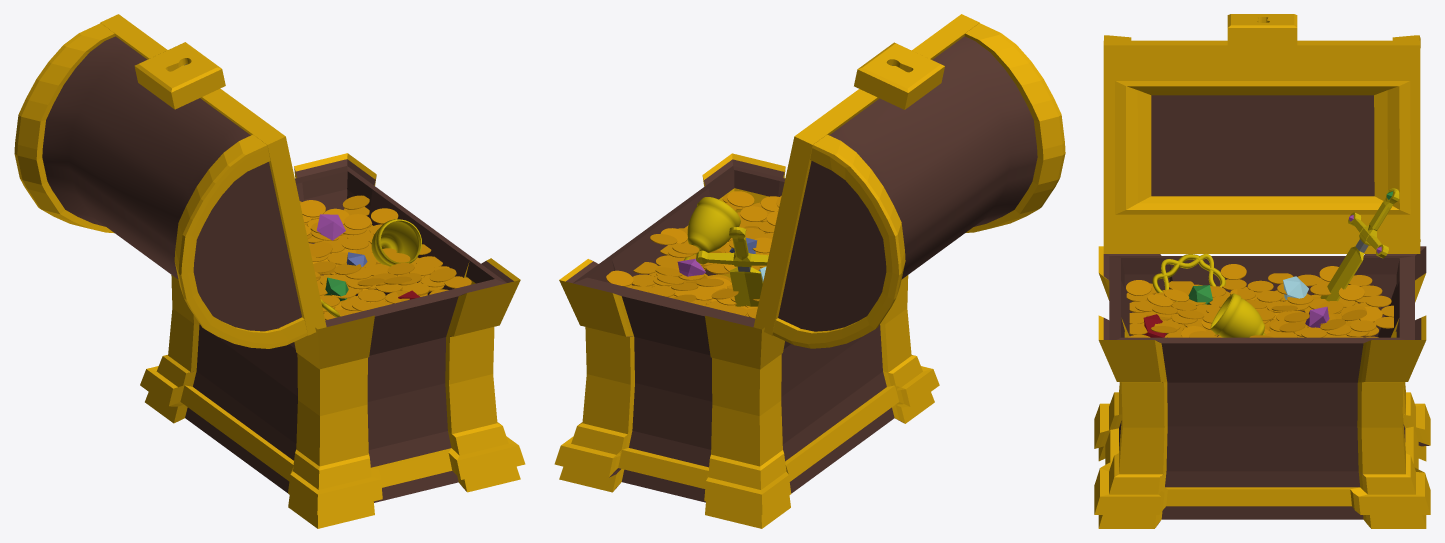
Rendered from Cofre.fbx.
The picture shows the model from 3 angles, left to right: view 1: azimuth 30°, elevation 25°; view 2: azimuth 150°, elevation 25°; view 3: azimuth 270°, elevation 25°; orthographic projection. The views are drawn at different scales.
Visible parts, largest first — view 1: Cubo, TAPA22, TAPA1, Cilindro.001, Esfera, Esfera geodésica; view 2: Cubo, TAPA22, TAPA1, Cilindro.001, espada, Esfera, Esfera geodésica; view 3: Cubo, TAPA22, Cilindro.001, espada, Esfera, Esfera geodésica, Curva NURBS, Cilindro.
Boxes of the visible parts, x1,y1,x2,y2 form: Cubo: (140,153,525,528); TAPA22: (14,14,326,348); TAPA1: (42,36,250,279); Cilindro.001: (299,195,471,319); Esfera: (371,219,421,266); Esfera geodésica: (316,214,419,301); Cubo: (554,153,939,528); TAPA22: (753,14,1065,348); TAPA1: (829,36,1037,279); Cilindro.001: (606,191,781,318); espada: (696,227,768,306); Esfera: (684,197,740,260); Esfera geodésica: (677,237,766,281); Cubo: (1094,246,1430,528); TAPA22: (1103,14,1420,253); Cilindro.001: (1126,264,1393,337); espada: (1320,188,1399,301); Esfera: (1210,293,1265,337); Esfera geodésica: (1143,276,1329,337); Curva NURBS: (1152,253,1225,301); Cilindro: (1138,283,1378,337).
Bounding box in the file's own units: 381 × 449 × 346.
